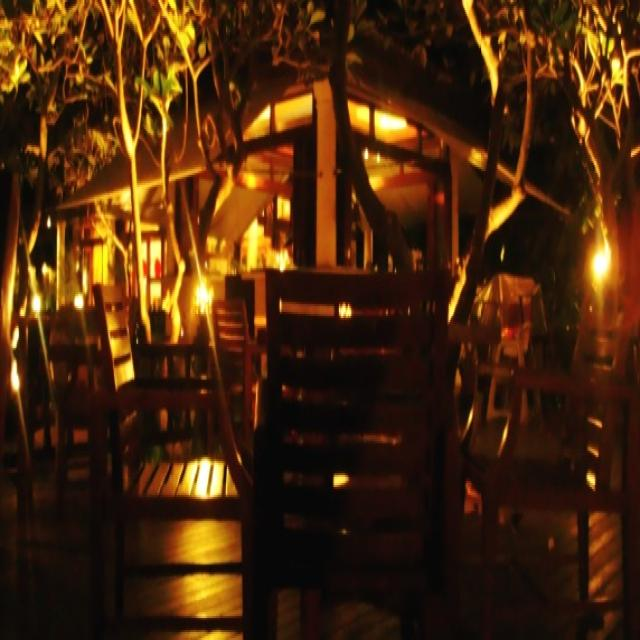chair: (249, 252, 487, 606), (88, 249, 263, 621), (485, 294, 640, 640), (23, 280, 97, 513)
